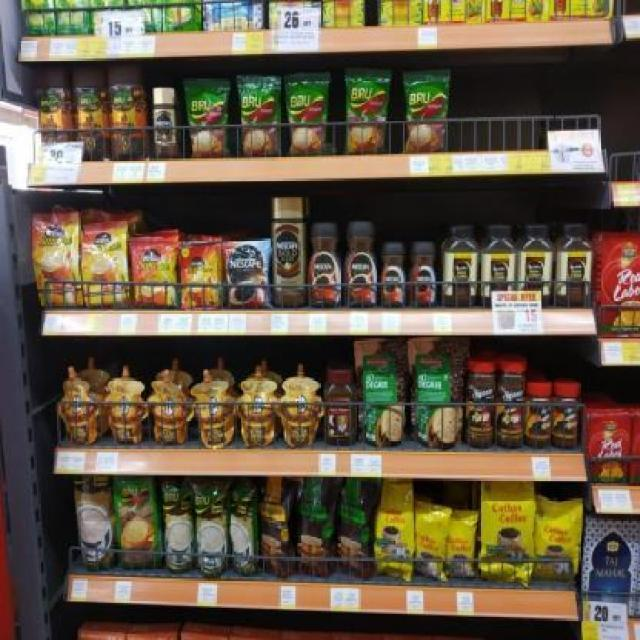Coffee: (36, 217, 76, 304), (83, 228, 126, 308), (274, 198, 304, 307), (133, 240, 176, 308), (345, 223, 378, 308), (308, 222, 340, 309), (227, 241, 268, 308), (411, 241, 437, 308), (153, 88, 176, 160), (380, 243, 404, 308)
